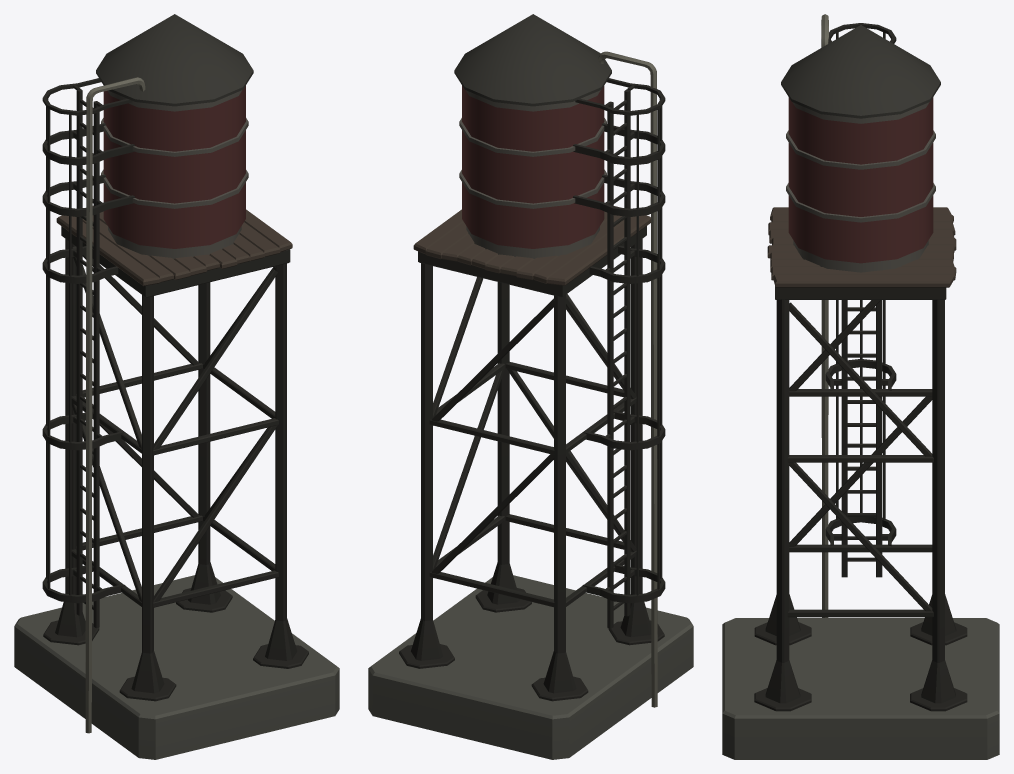
The model's file is farm_tower_2.glb.
3 renders of one model, left to right at view 1: azimuth 30°, elevation 25°; view 2: azimuth 150°, elevation 25°; view 3: azimuth 270°, elevation 25°, orthographic.
Visible parts, largest first — view 1: farm_tower_2; view 2: farm_tower_2; view 3: farm_tower_2.
Part boxes in pixels (x1,y1,x2,y2): farm_tower_2: [14, 14, 339, 759]; farm_tower_2: [368, 14, 693, 759]; farm_tower_2: [722, 14, 999, 759].
Bounding box in the file's own units: 2.89 × 8.16 × 2.98.
1 material, 1 textured.
